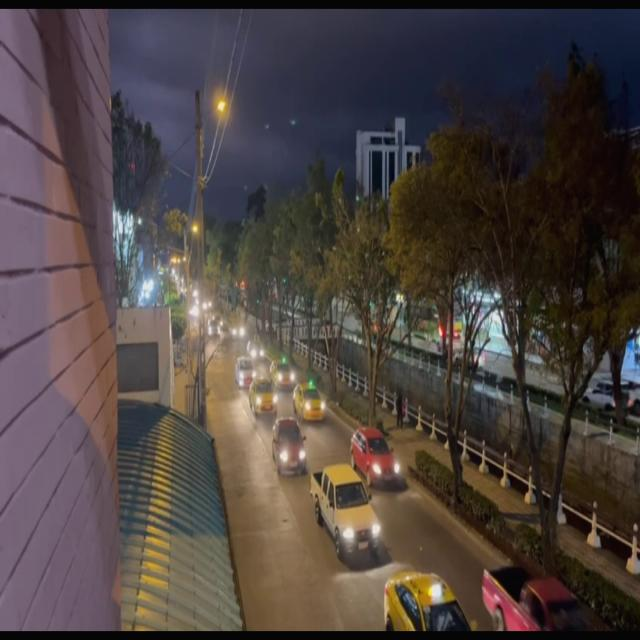CMT: (482, 564, 592, 630), (310, 466, 372, 554)
SED: (351, 428, 396, 483)
